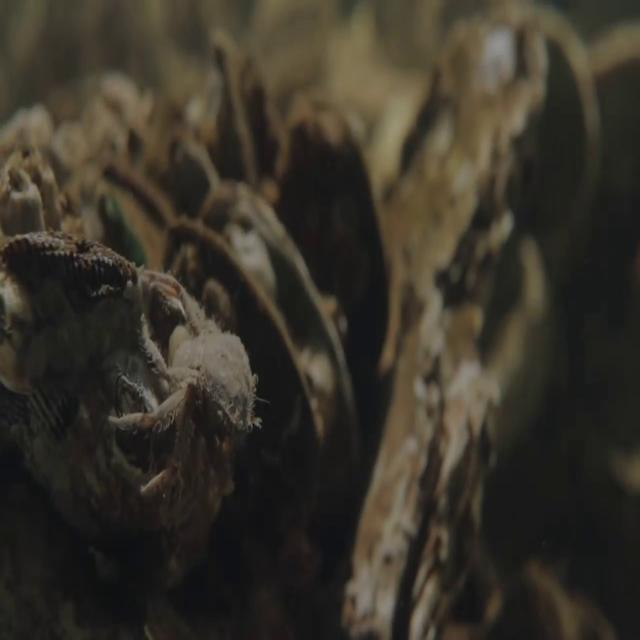Oyster-Open: (164, 175, 365, 495)
